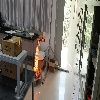fire: (33, 36, 40, 77)
